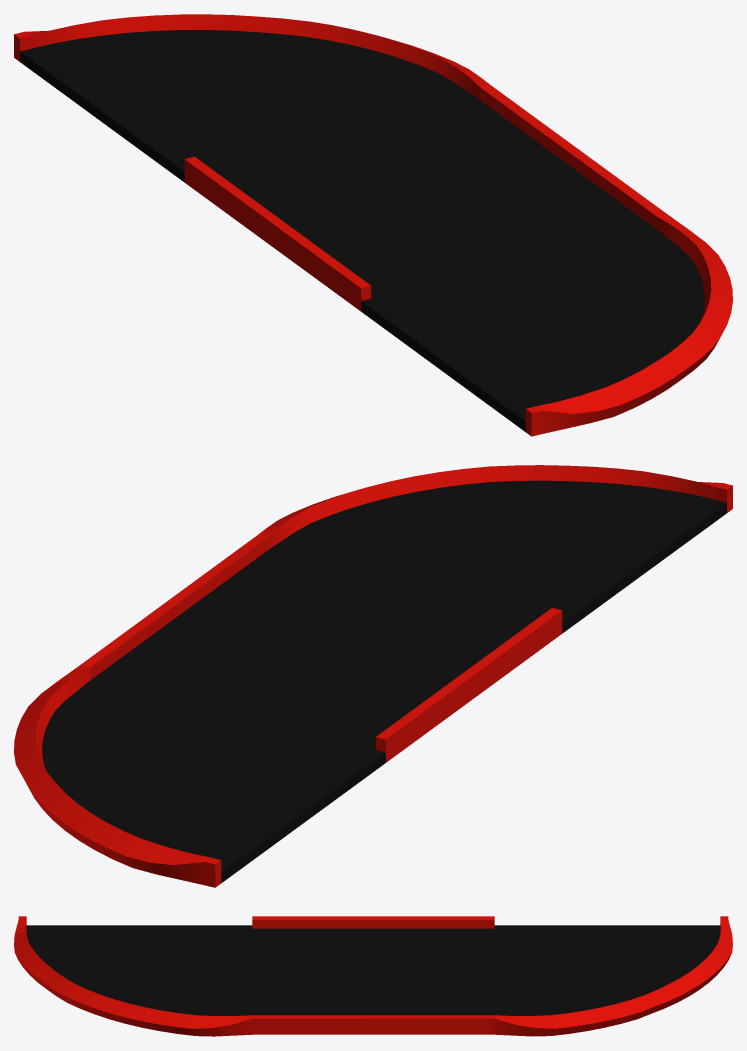
The model's file is Turn_04.fbx.
3 renders of one model, top to bottom at view 1: azimuth 30°, elevation 25°; view 2: azimuth 150°, elevation 25°; view 3: azimuth 270°, elevation 25°, orthographic. The views are drawn at different scales.
Parts seen in each view (by area): view 1: Turn_04; view 2: Turn_04; view 3: Turn_04.
Boxes of the visible parts, x1,y1,x2,y2 form: Turn_04: (14,14,732,436); Turn_04: (14,465,732,887); Turn_04: (14,916,732,1036).
Size of the model in its own units: 60.83 by 4.33 by 175.
